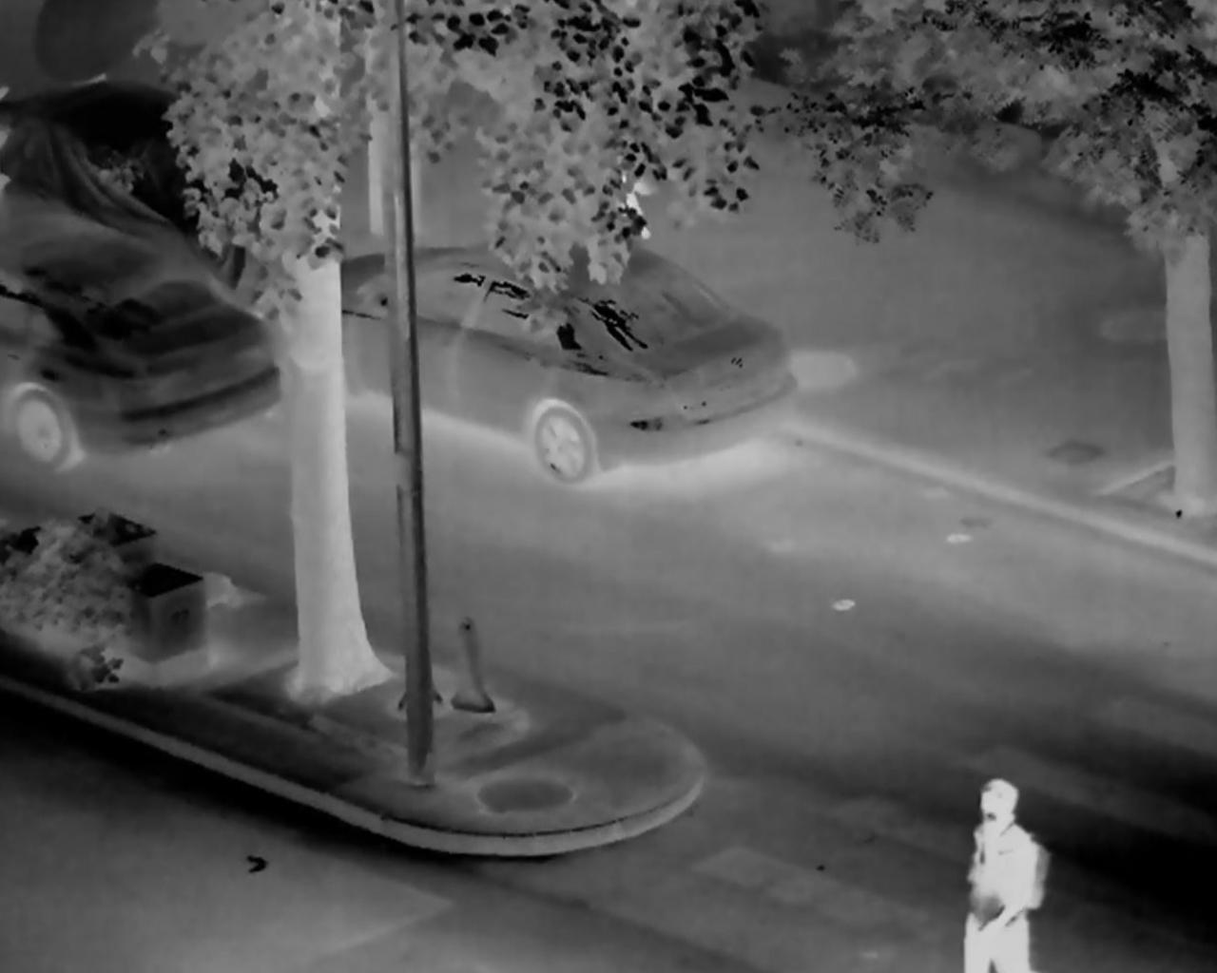person: (952, 774, 1059, 973)
